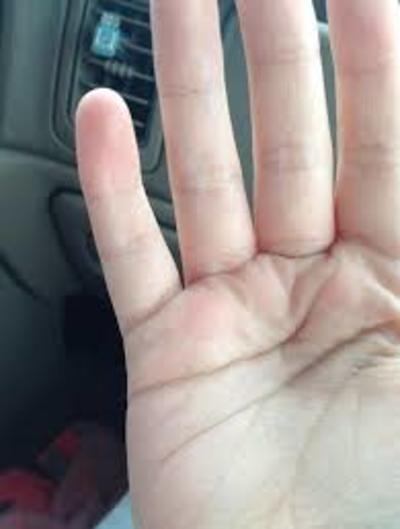mindinho: (59, 77, 189, 325)
